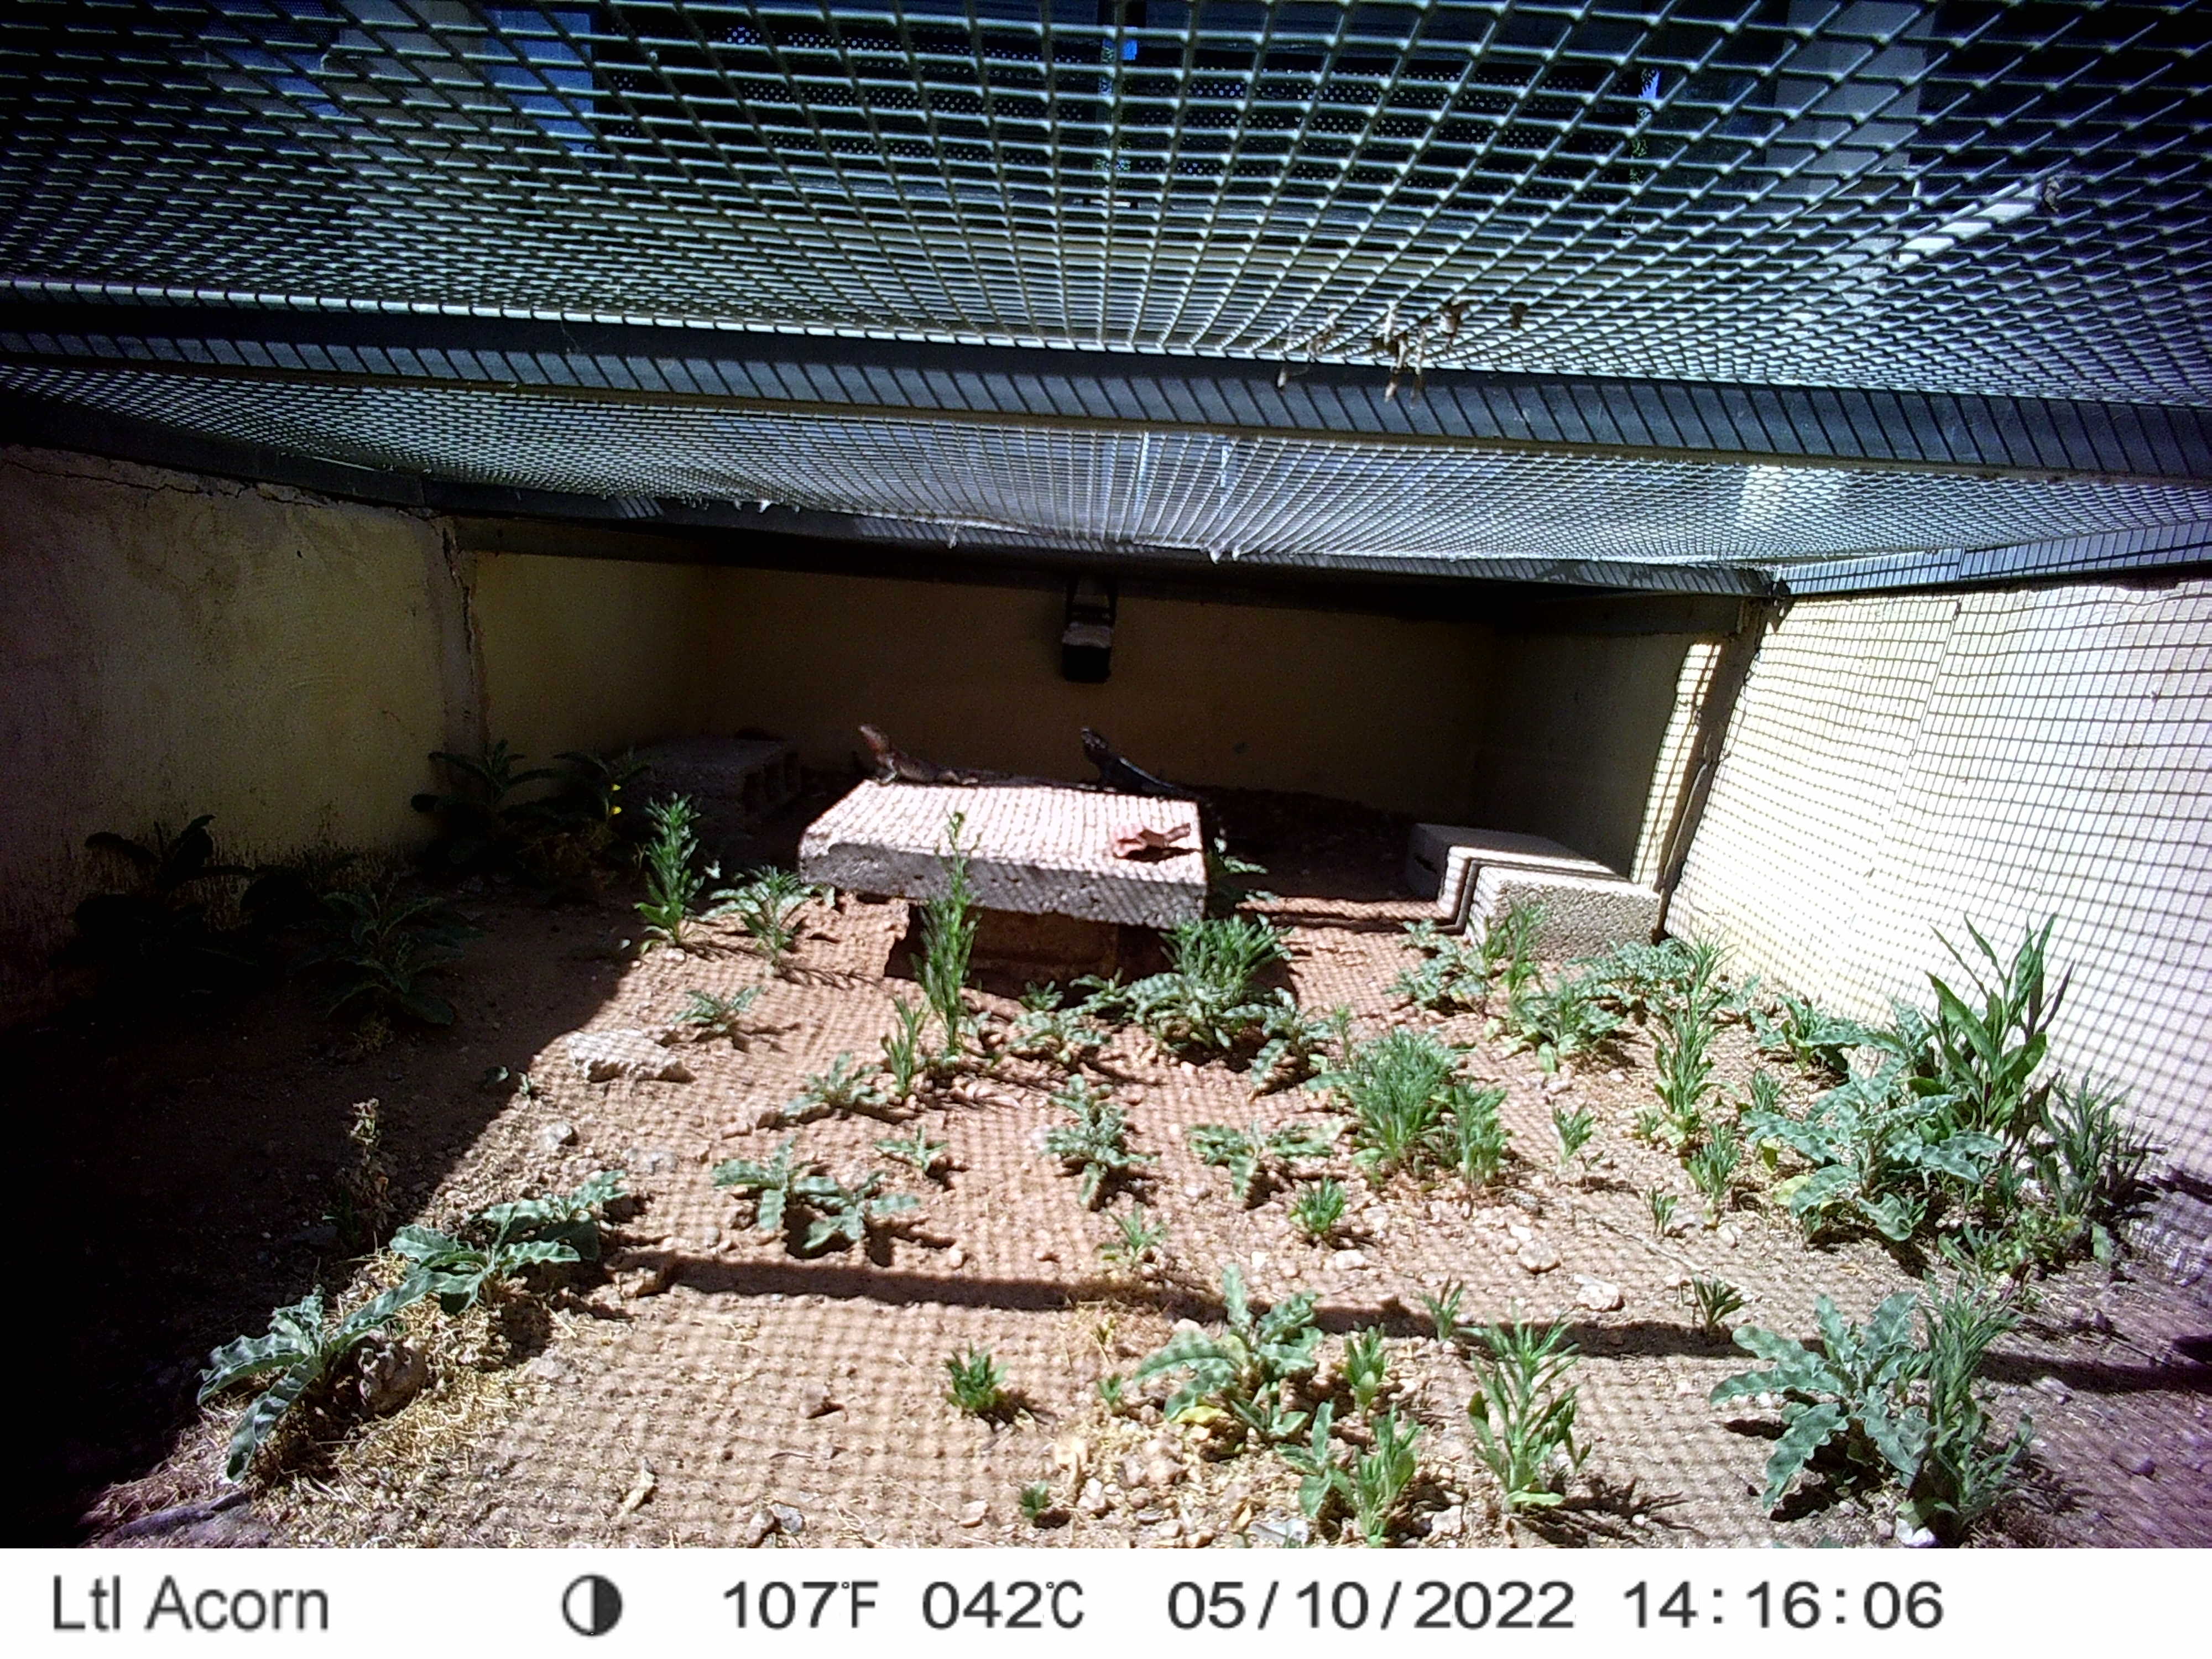lizard: (1069, 720, 1228, 798), (848, 720, 1014, 793)
